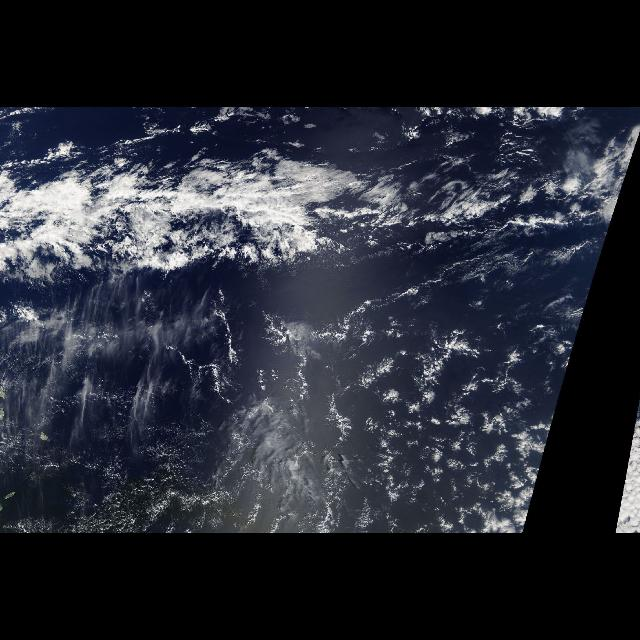Fish: (2, 146, 514, 280)
Gravel: (128, 295, 590, 503), (620, 397, 640, 503)
Sugar: (2, 299, 206, 501)
